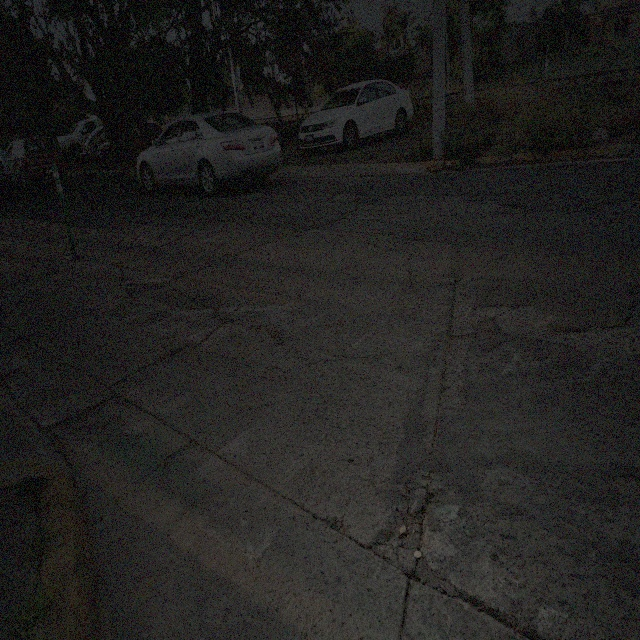pothole: (377, 457, 432, 579), (474, 299, 548, 338), (484, 339, 547, 374), (610, 467, 636, 503), (586, 199, 638, 215), (497, 202, 522, 212)
